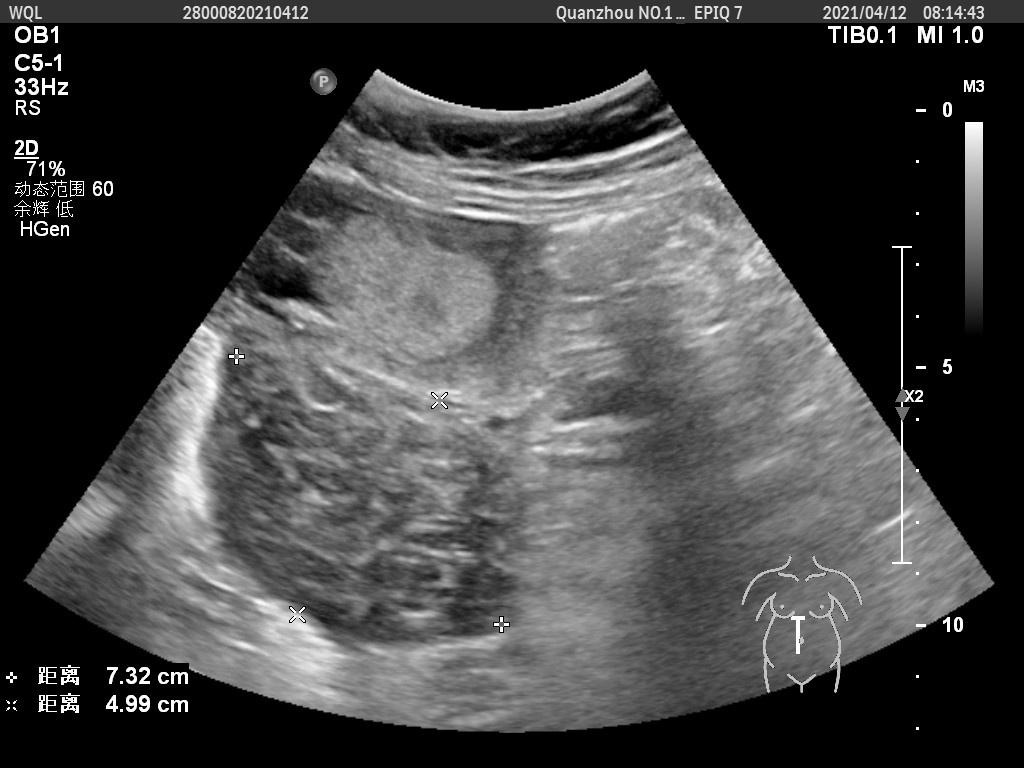肌瘤: (231, 355, 507, 631)
